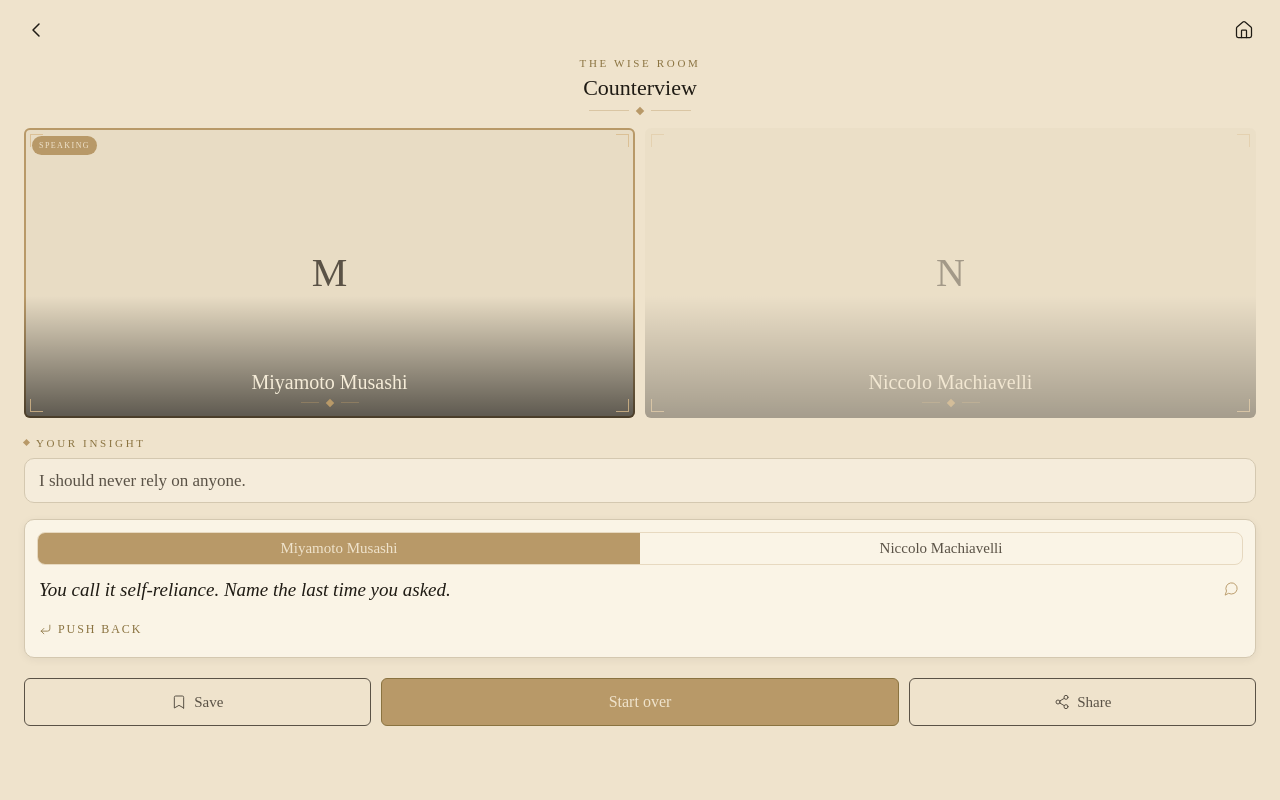
go deeper — when the request FAILS › recovers on the retry, and clears the error with it
Check: the text "You call it self-reliance. Name the last time you asked." is shown, box [39,579,451,600]
Click the button named "go deeper": (1232, 589) [1222,579,1241,598]
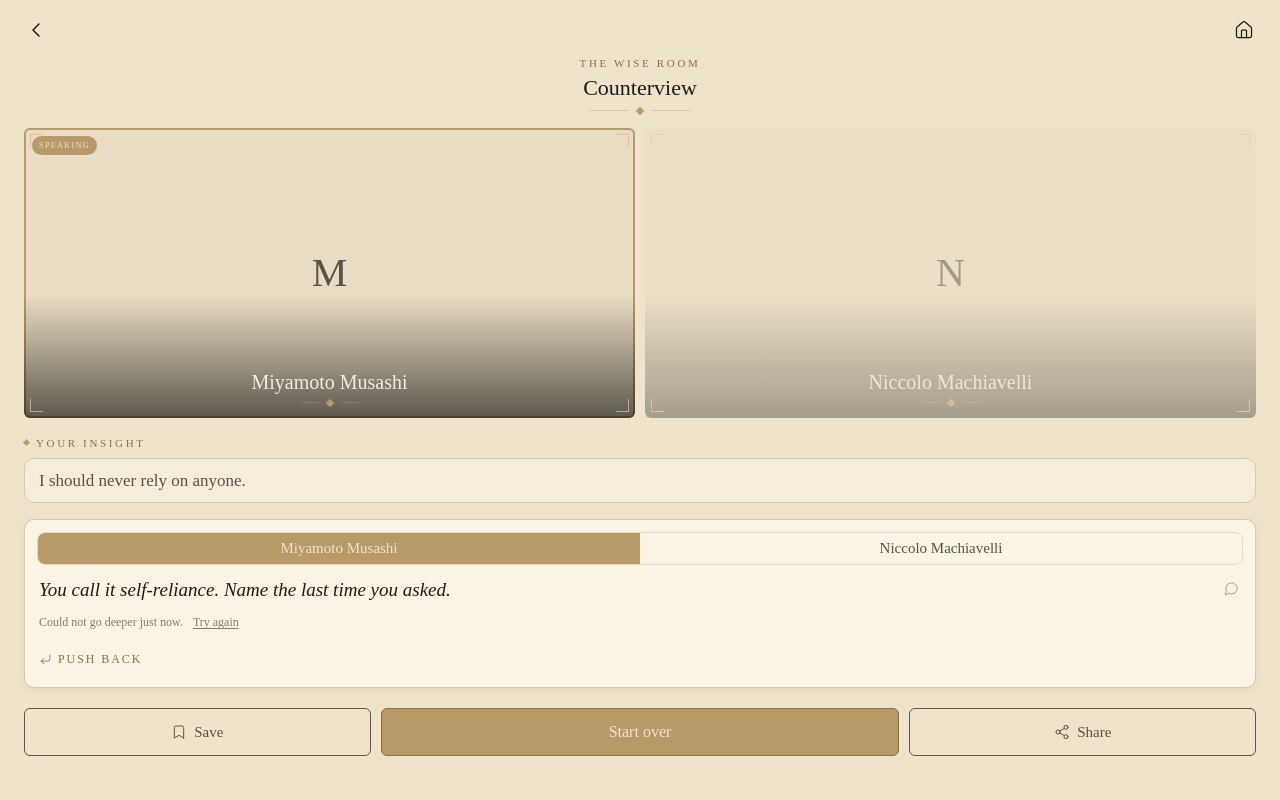
Check: the button "Try again" is shown
Click the button "Try again": (216, 623) [193,613,239,633]
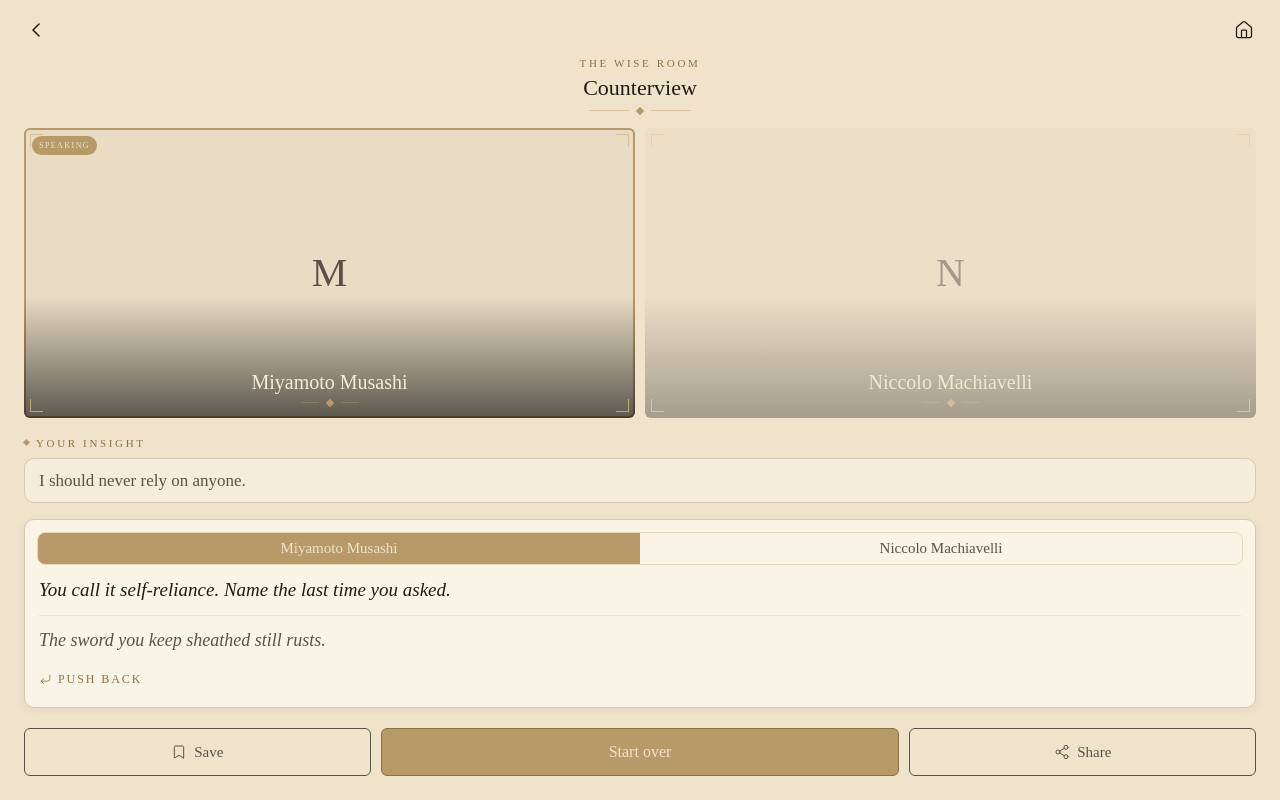
Check: the text "The sword you keep sheathed still rusts." is shown, box [39,630,326,650]
Check: the text "Could not go deeper just now" is gone
Check: the button "Try again" is gone
